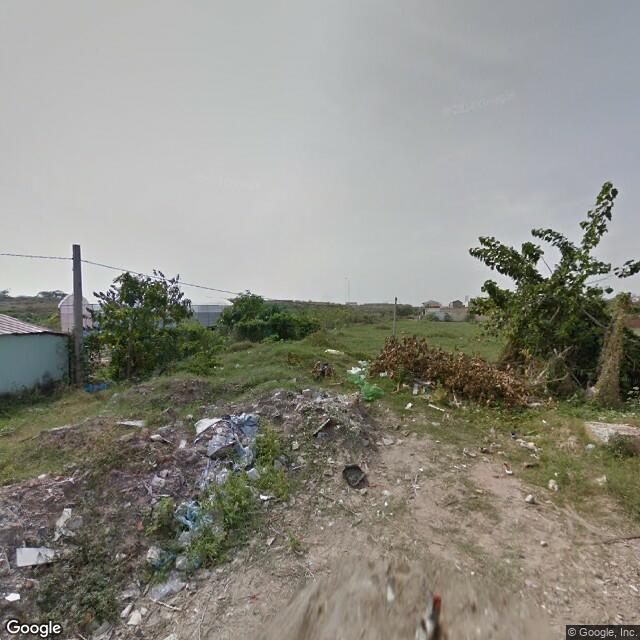litter: (184, 413, 256, 467), (174, 506, 212, 573), (52, 505, 92, 541), (114, 581, 146, 626), (314, 418, 366, 444), (24, 542, 73, 567), (339, 464, 369, 488), (519, 440, 544, 459), (145, 544, 165, 566), (379, 584, 398, 604), (312, 365, 339, 379), (524, 490, 536, 507), (395, 401, 413, 411), (548, 477, 559, 489), (504, 465, 515, 475), (174, 586, 181, 592)
